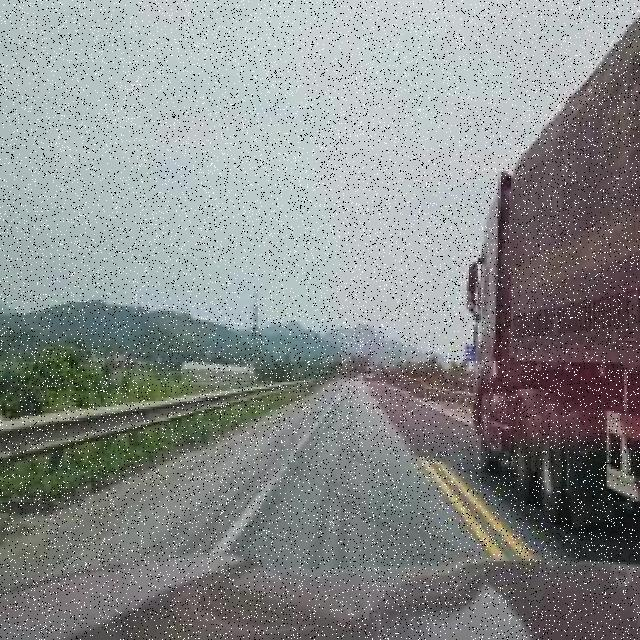clear-road: (0, 377, 640, 595)
